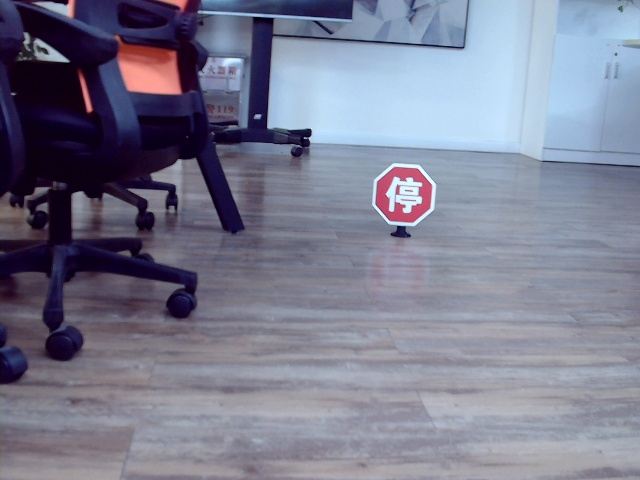stop: (385, 175, 427, 214)
